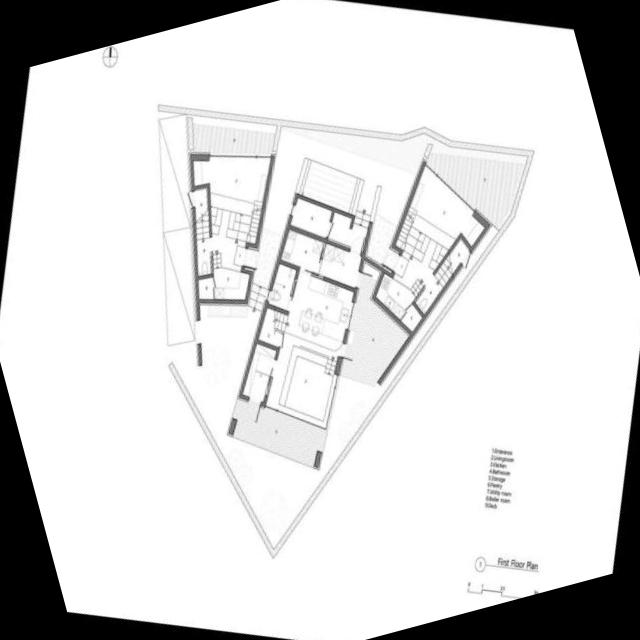background: (0, 0, 640, 640)
space_front: (241, 343, 275, 402), (391, 250, 431, 296), (211, 236, 245, 271)
space_kitchen: (283, 270, 353, 353), (375, 273, 415, 319), (212, 267, 249, 299)
space_living_room: (394, 165, 484, 272), (264, 332, 338, 426), (192, 158, 270, 244)
space_other: (279, 228, 323, 272), (318, 243, 361, 287), (433, 236, 469, 287), (289, 197, 331, 239), (326, 211, 367, 253), (257, 306, 287, 348), (193, 186, 208, 239), (400, 304, 421, 331), (197, 276, 213, 299)
space_toilet: (267, 263, 295, 310), (414, 275, 442, 314), (195, 237, 210, 276)
